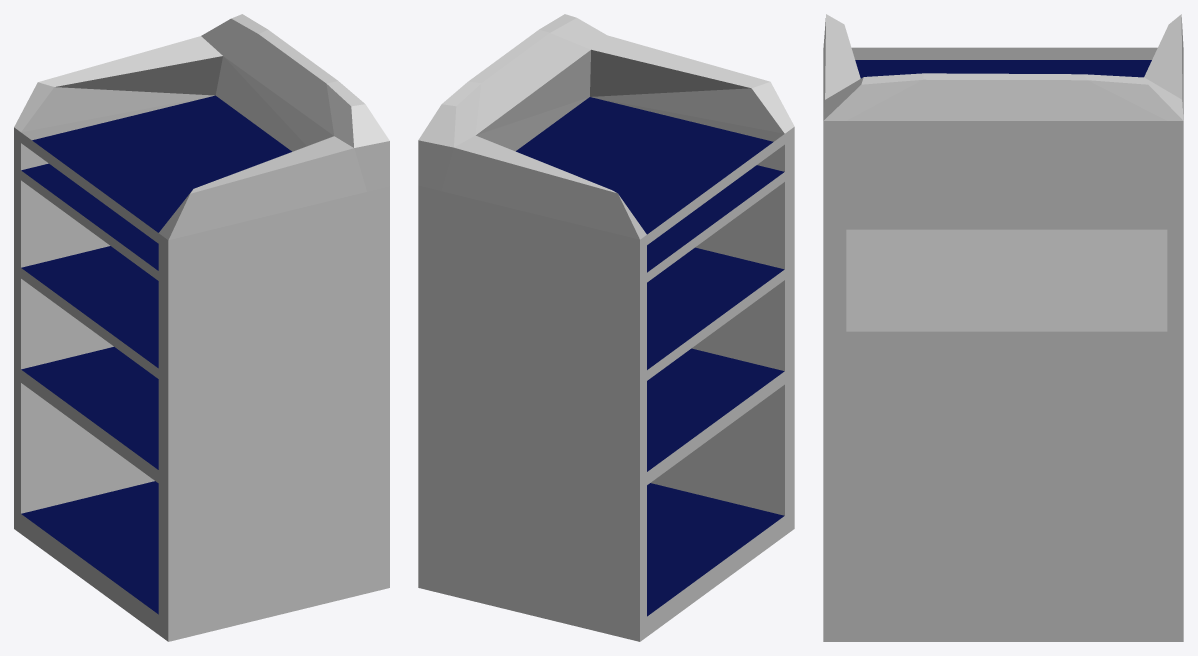
The model's file is HausT-Rednerpult.glb.
3 views of the same model, side by side, from view 1: azimuth 30°, elevation 25°; view 2: azimuth 150°, elevation 25°; view 3: azimuth 270°, elevation 25° (orthographic). The views are drawn at different scales.
Visible parts, largest first — view 1: Cube; view 2: Cube; view 3: Cube.
Boxes of the visible parts, box(x1,y1,x2,y2) form: Cube: box(14, 14, 389, 641); Cube: box(418, 14, 794, 641); Cube: box(823, 14, 1183, 641).
Bounding box in the file's own units: 2.7 × 5.57 × 3.26.
